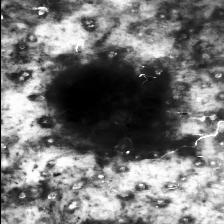Potentially Malignant Skin Tumors: (54, 68, 160, 150)
